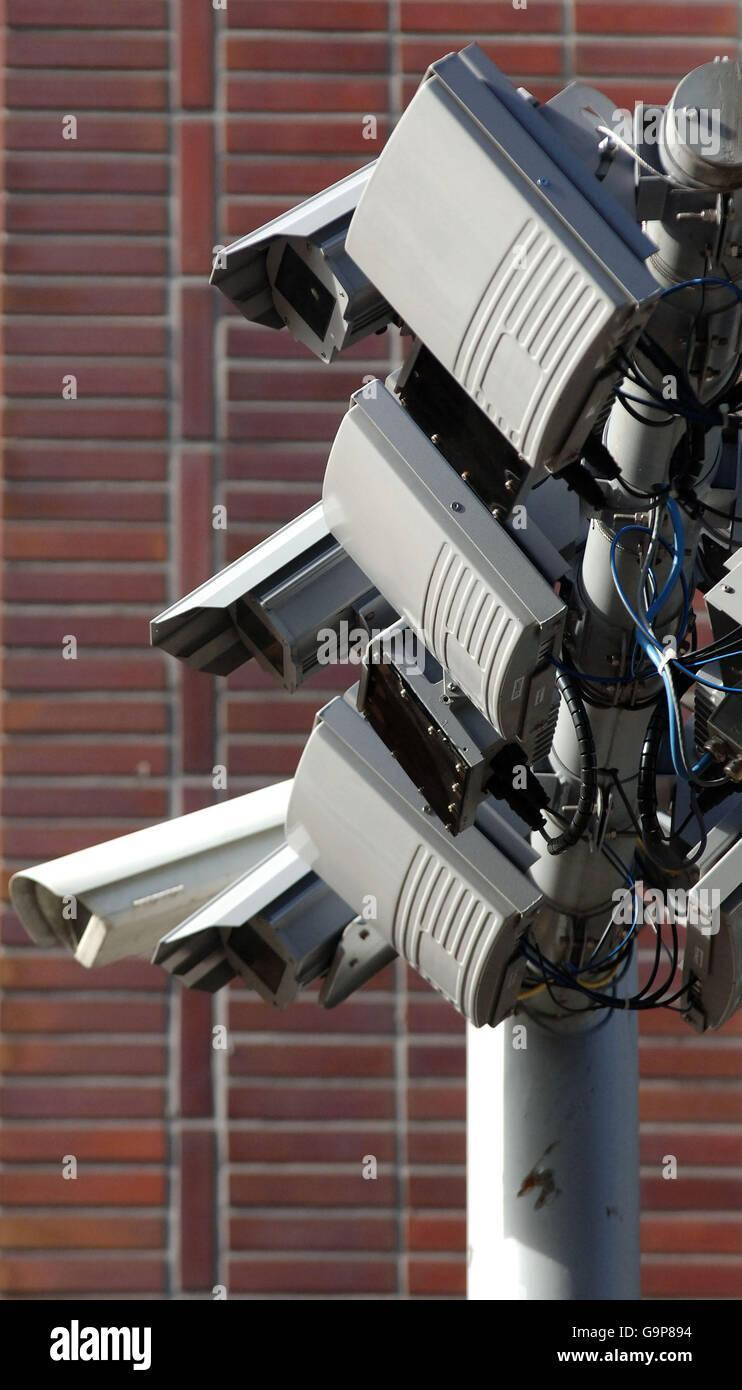Monitor: (77, 477, 409, 699), (7, 752, 323, 943), (179, 133, 417, 375), (176, 842, 367, 1026)
